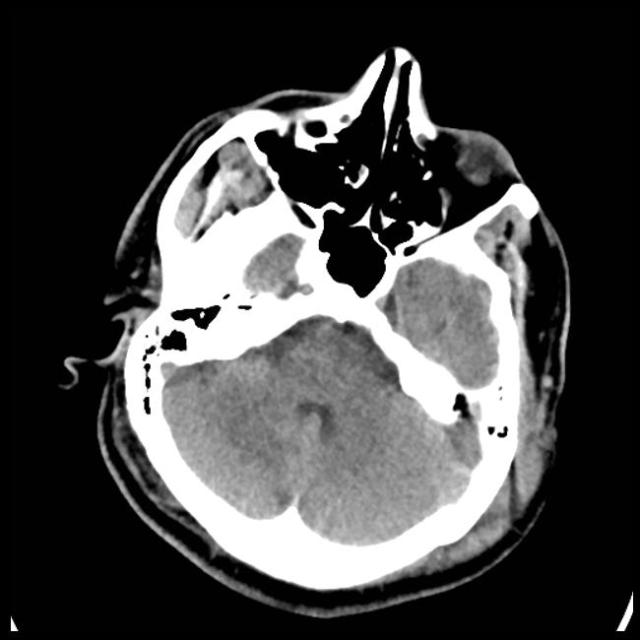lesion: (83, 45, 575, 612)
